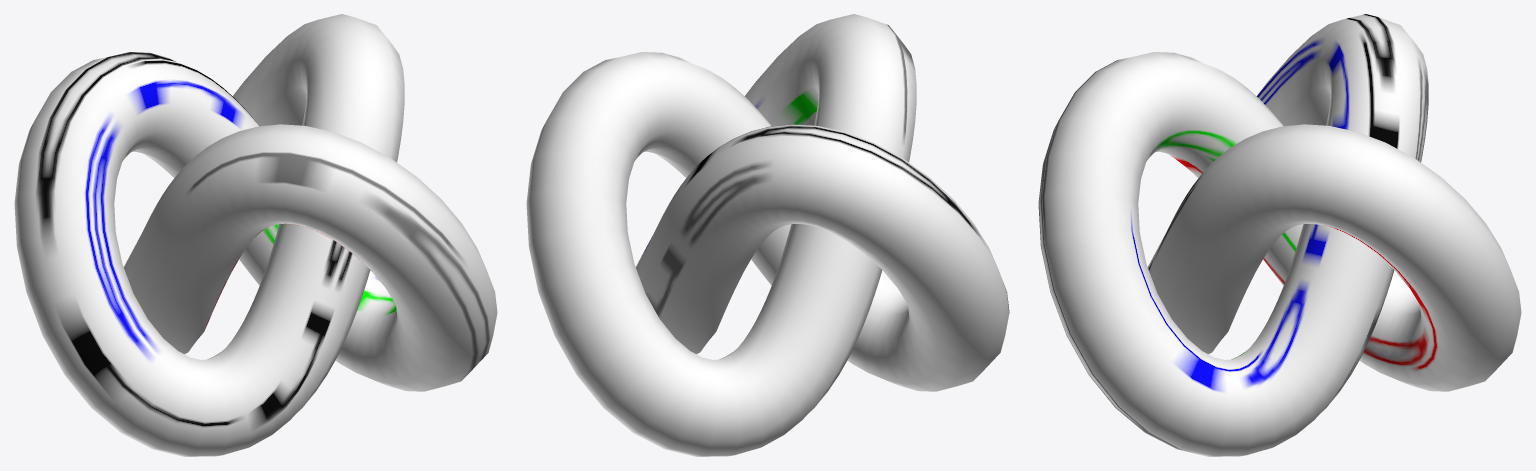
3 renders of one model, left to right at view 1: azimuth 30°, elevation 25°; view 2: azimuth 150°, elevation 25°; view 3: azimuth 270°, elevation 25°, orthographic.
Visible parts, largest first — view 1: Torus Knot01; view 2: Torus Knot01; view 3: Torus Knot01.
Boxes of the visible parts, <box> form: Torus Knot01: <box>14,14,497,456</box>; Torus Knot01: <box>526,14,1009,456</box>; Torus Knot01: <box>1038,14,1521,456</box>.
Bounding box in the file's own units: 98.52 × 105 × 76.94.
1 material, 1 textured.
